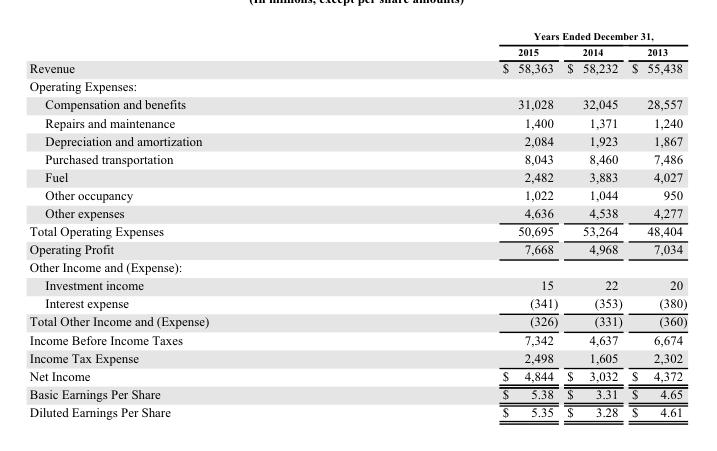table: (28, 28, 686, 419)
table column: (28, 28, 354, 419), (354, 28, 561, 419), (561, 28, 626, 419), (626, 28, 686, 419)
table column header: (28, 28, 686, 58)
table projected row header: (28, 76, 686, 94), (28, 257, 686, 275)
table row: (28, 112, 686, 131), (28, 329, 686, 348), (28, 58, 686, 76), (28, 76, 686, 94), (28, 94, 686, 112), (28, 131, 686, 149), (28, 149, 686, 167), (28, 167, 686, 185), (28, 185, 686, 203), (28, 203, 686, 221), (28, 221, 686, 239), (28, 239, 686, 257), (28, 257, 686, 275), (28, 275, 686, 293), (28, 293, 686, 311), (28, 311, 686, 329), (28, 348, 686, 366), (28, 366, 686, 384), (28, 384, 686, 402), (28, 402, 686, 419), (28, 28, 686, 43), (28, 43, 686, 58)
table spanning cell: (354, 28, 686, 43)
